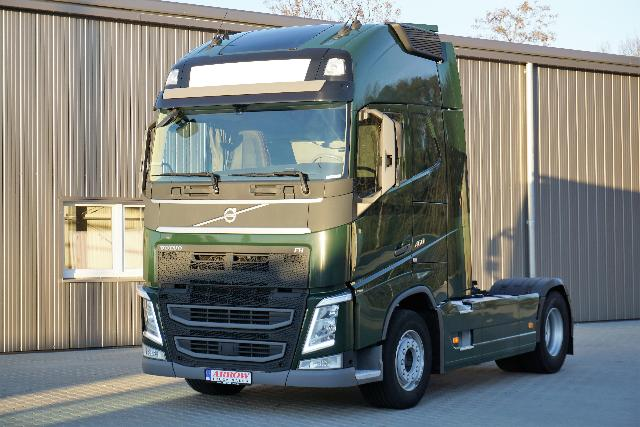truck: (127, 23, 595, 397)
